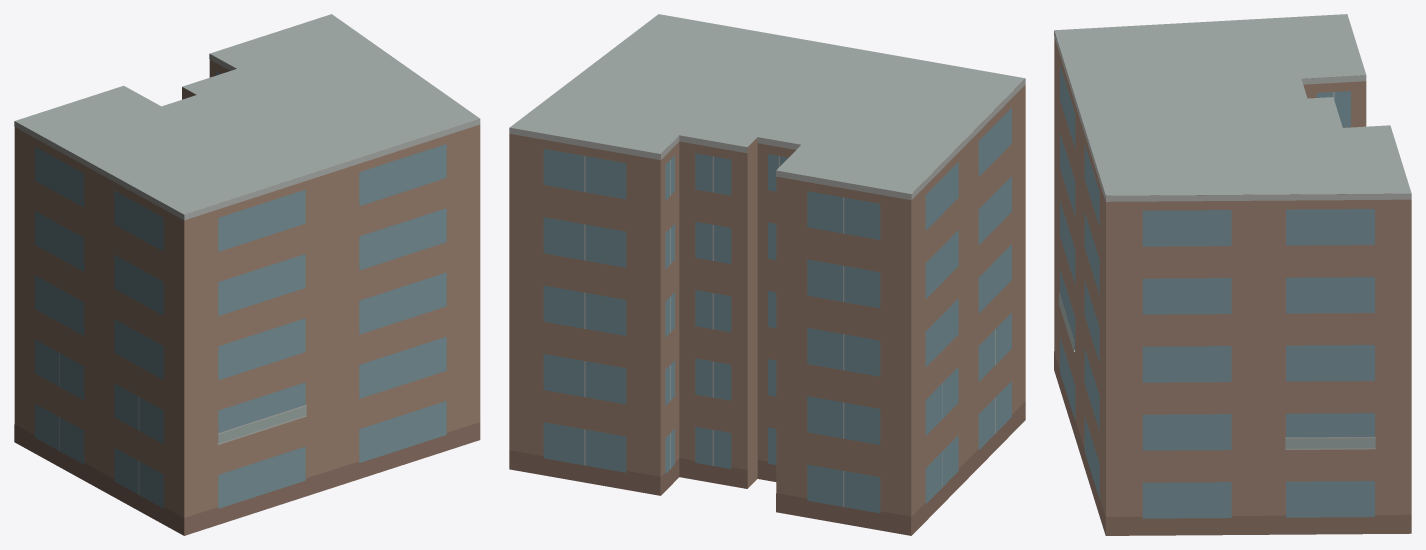
The model's file is survey-upis-32887909.glb.
3 views of the same model, side by side, from view 1: azimuth 30°, elevation 25°; view 2: azimuth 150°, elevation 25°; view 3: azimuth 270°, elevation 25° (orthographic). The views are drawn at different scales.
Visible parts, largest first — view 1: survey-upis-32887909.tmp; view 2: survey-upis-32887909.tmp; view 3: survey-upis-32887909.tmp.
Boxes of the visible parts, x1,y1,x2,y2 form: survey-upis-32887909.tmp: (14, 14, 480, 535); survey-upis-32887909.tmp: (509, 14, 1025, 535); survey-upis-32887909.tmp: (1054, 14, 1411, 535).
Bounding box in the file's own units: 15.65 × 13.65 × 13.01.
